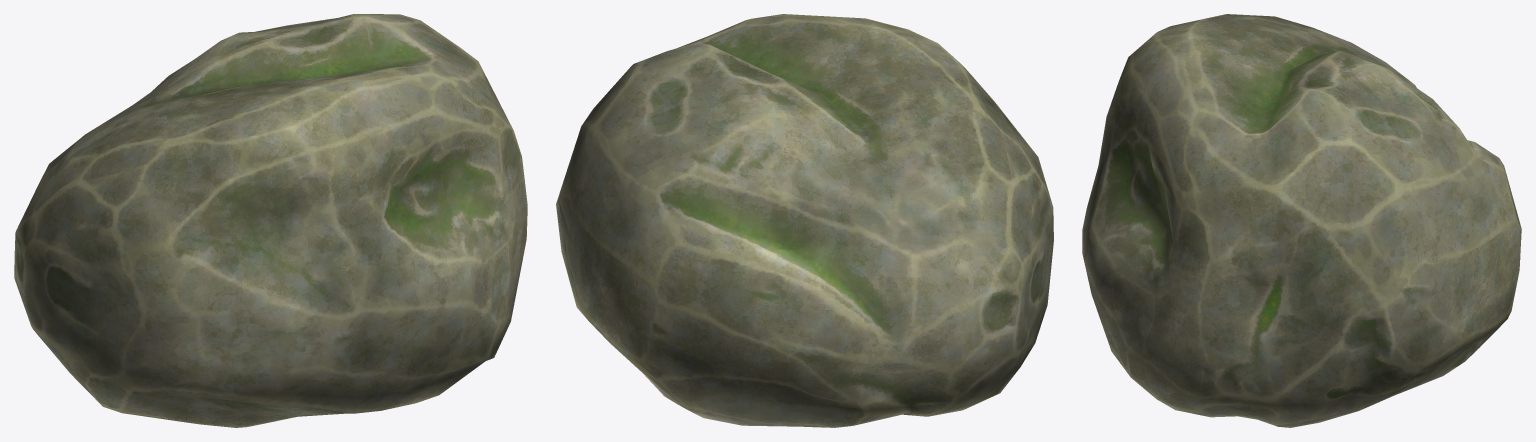
Rendered from SM_Boulder_1.fbx.
3 views of the same model, side by side, from view 1: azimuth 30°, elevation 25°; view 2: azimuth 150°, elevation 25°; view 3: azimuth 270°, elevation 25° (orthographic). The views are drawn at different scales.
Parts seen in each view (by area): view 1: SM_Boulder_1_LOD0; view 2: SM_Boulder_1_LOD0; view 3: SM_Boulder_1_LOD0.
Boxes of the visible parts, bbox=[...] form: SM_Boulder_1_LOD0: bbox=[14, 14, 527, 427]; SM_Boulder_1_LOD0: bbox=[556, 14, 1053, 427]; SM_Boulder_1_LOD0: bbox=[1082, 14, 1521, 427].
Bounding box in the file's own units: 111 × 96.6 × 80.27.
